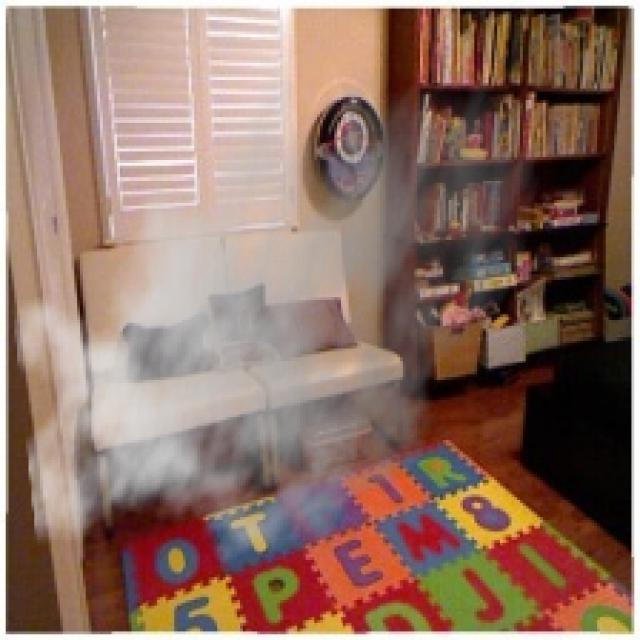smoke: (11, 23, 543, 583)
